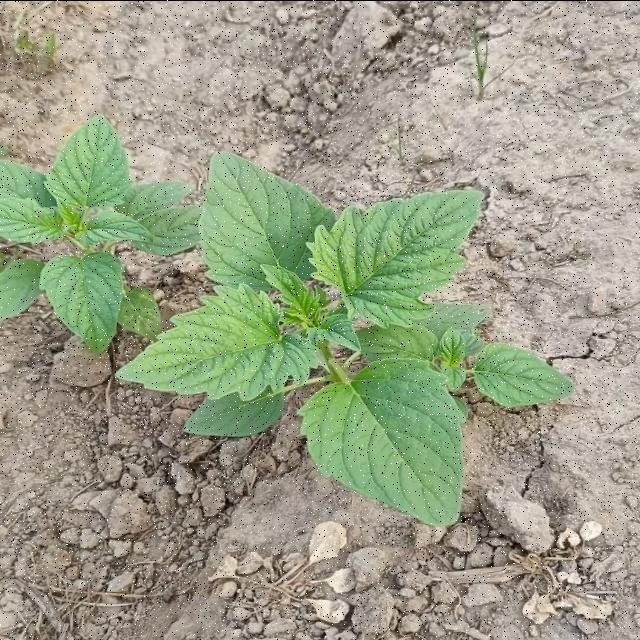plant: (0, 115, 571, 524)
